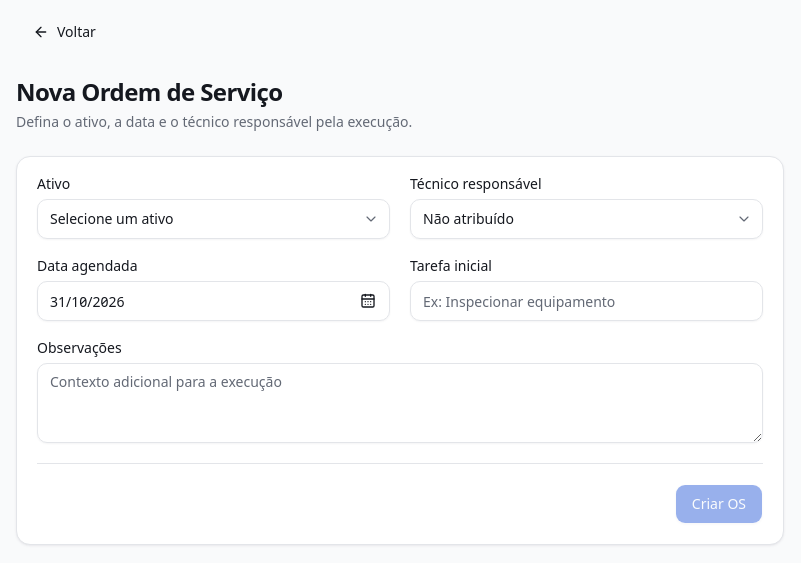
it: CreateWorkOrderPage asset picker › loads assets from work-orders, not inventory, without requiresMaintenance filter
This screenshot has width=801, height=563.
Click the dropdown labelled "ativo" at (112, 218), box [37,199,390,239]
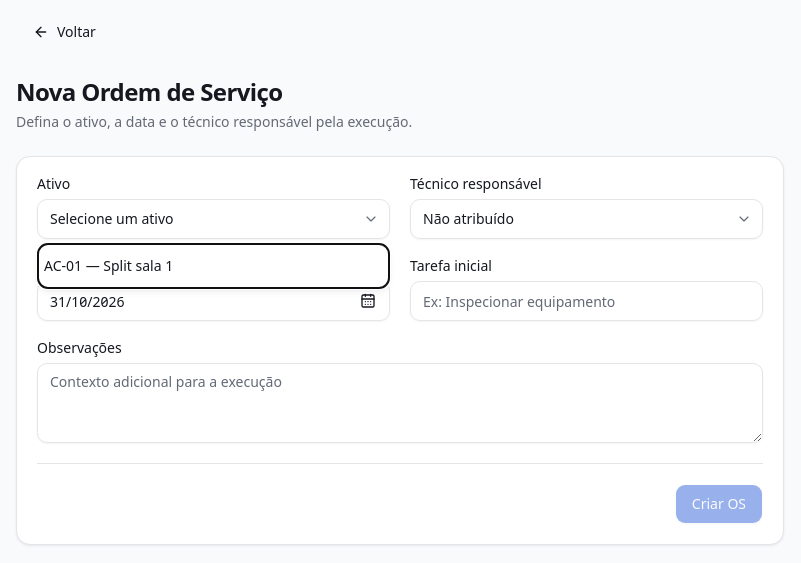
Result: the text "AC-01 — Split sala 1" is shown at [44,256,173,275]
